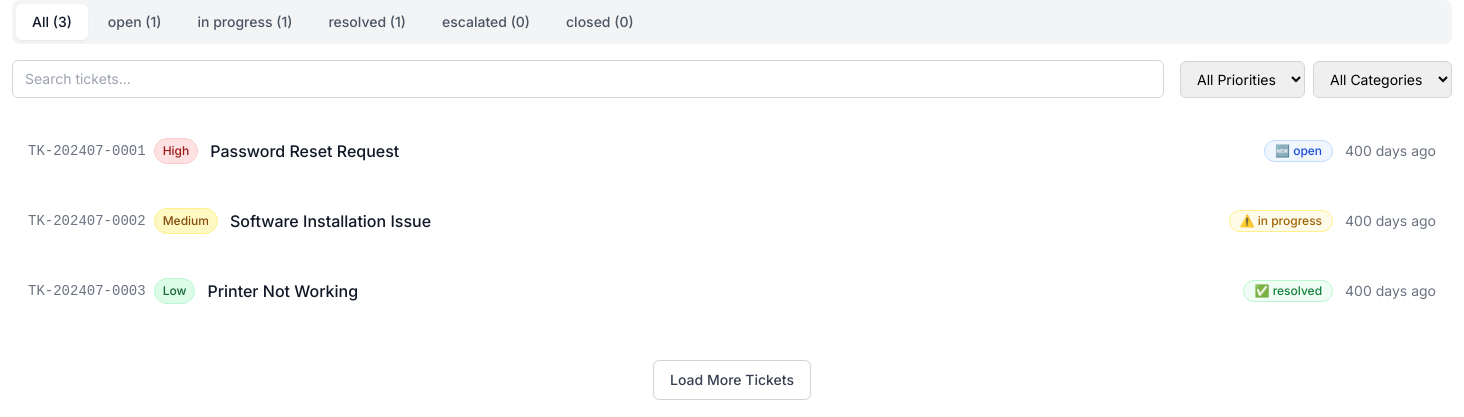
Test: TicketList › Empty States › should display filtered empty state when filters return no results
This screenshot has width=1464, height=417.
# Apply a filter that returns no results
Type "nonexistent" into the field with placeholder "Search tickets..." at (588, 79), box [12,60,1164,98]
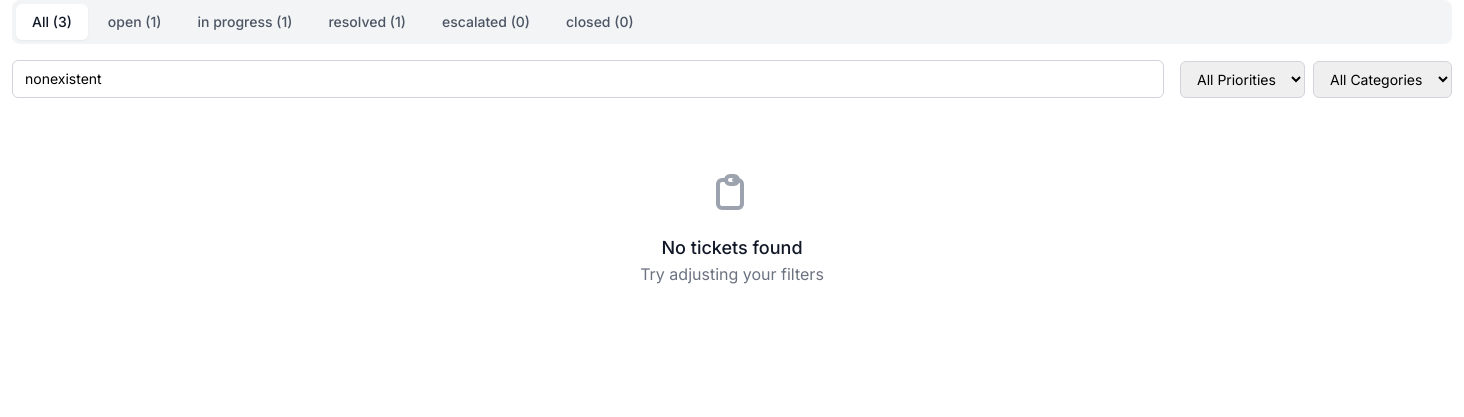
Expected: the text "No tickets found" is shown, [662,237,802,258]
Expected: the text "Try adjusting your filters" is shown, [640,264,824,284]
